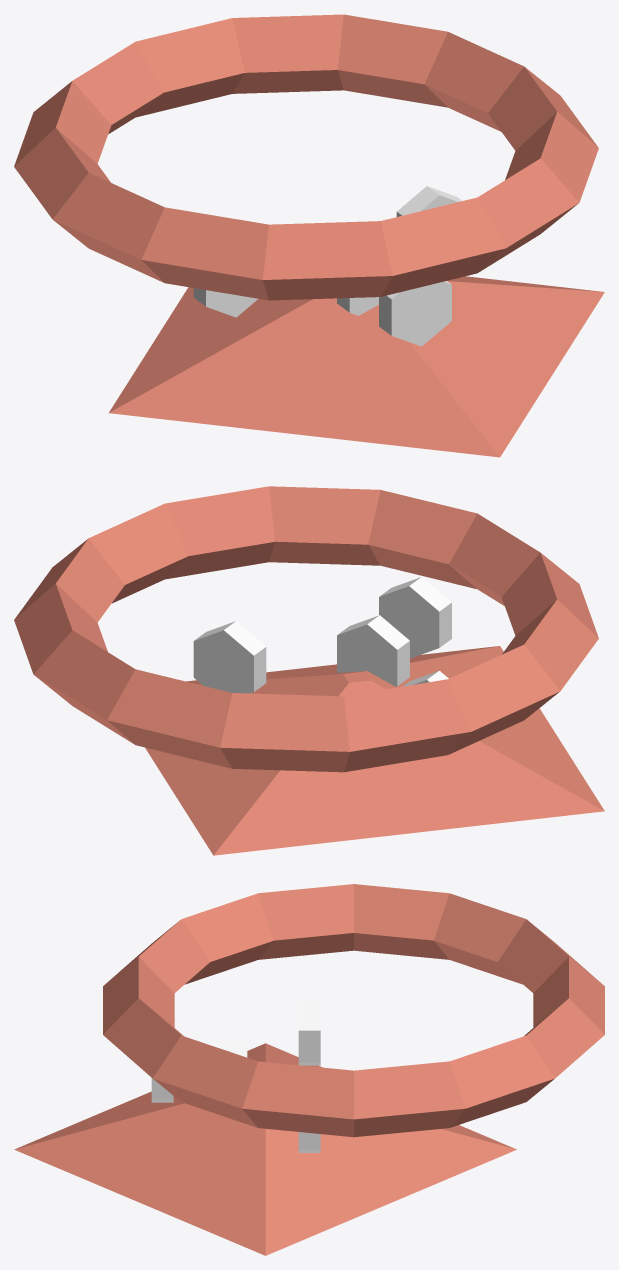
File: sig_dog.glb
3 views of the same model, one above another, from view 1: azimuth 30°, elevation 25°; view 2: azimuth 150°, elevation 25°; view 3: azimuth 270°, elevation 25° (orthographic). The views are drawn at different scales.
Parts seen in each view (by area): view 1: Torus, Cone, Cylinder.003, Cylinder, Cylinder.001; view 2: Torus, Cone, Cylinder.001, Cylinder.003, Cylinder.002; view 3: Torus, Cone, Cylinder.
Part boxes in pixels (box(x1,y1,x2,y2)): Torus: box(14, 14, 598, 300); Cone: box(109, 276, 604, 457); Cylinder.003: box(379, 281, 451, 346); Cylinder: box(193, 288, 258, 317); Cylinder.001: box(396, 186, 462, 216); Torus: box(14, 486, 598, 772); Cone: box(145, 646, 604, 855); Cylinder.001: box(193, 621, 266, 693); Cylinder.003: box(379, 577, 451, 658); Cylinder.002: box(337, 615, 409, 686); Torus: box(103, 884, 604, 1137); Cone: box(14, 1043, 516, 1255); Cylinder: box(298, 1001, 320, 1065).
Size of the model in its own units: 0.35 by 0.1292 by 0.4016.
